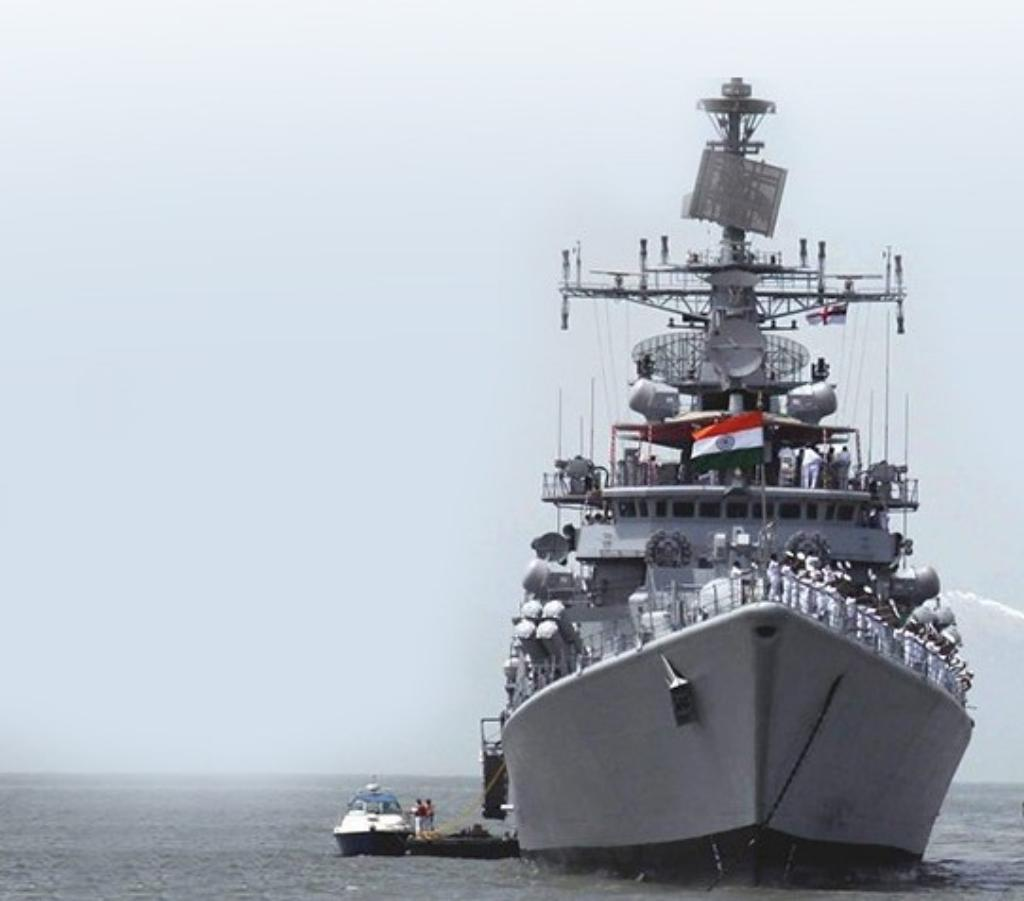Warship: (494, 68, 972, 870)
